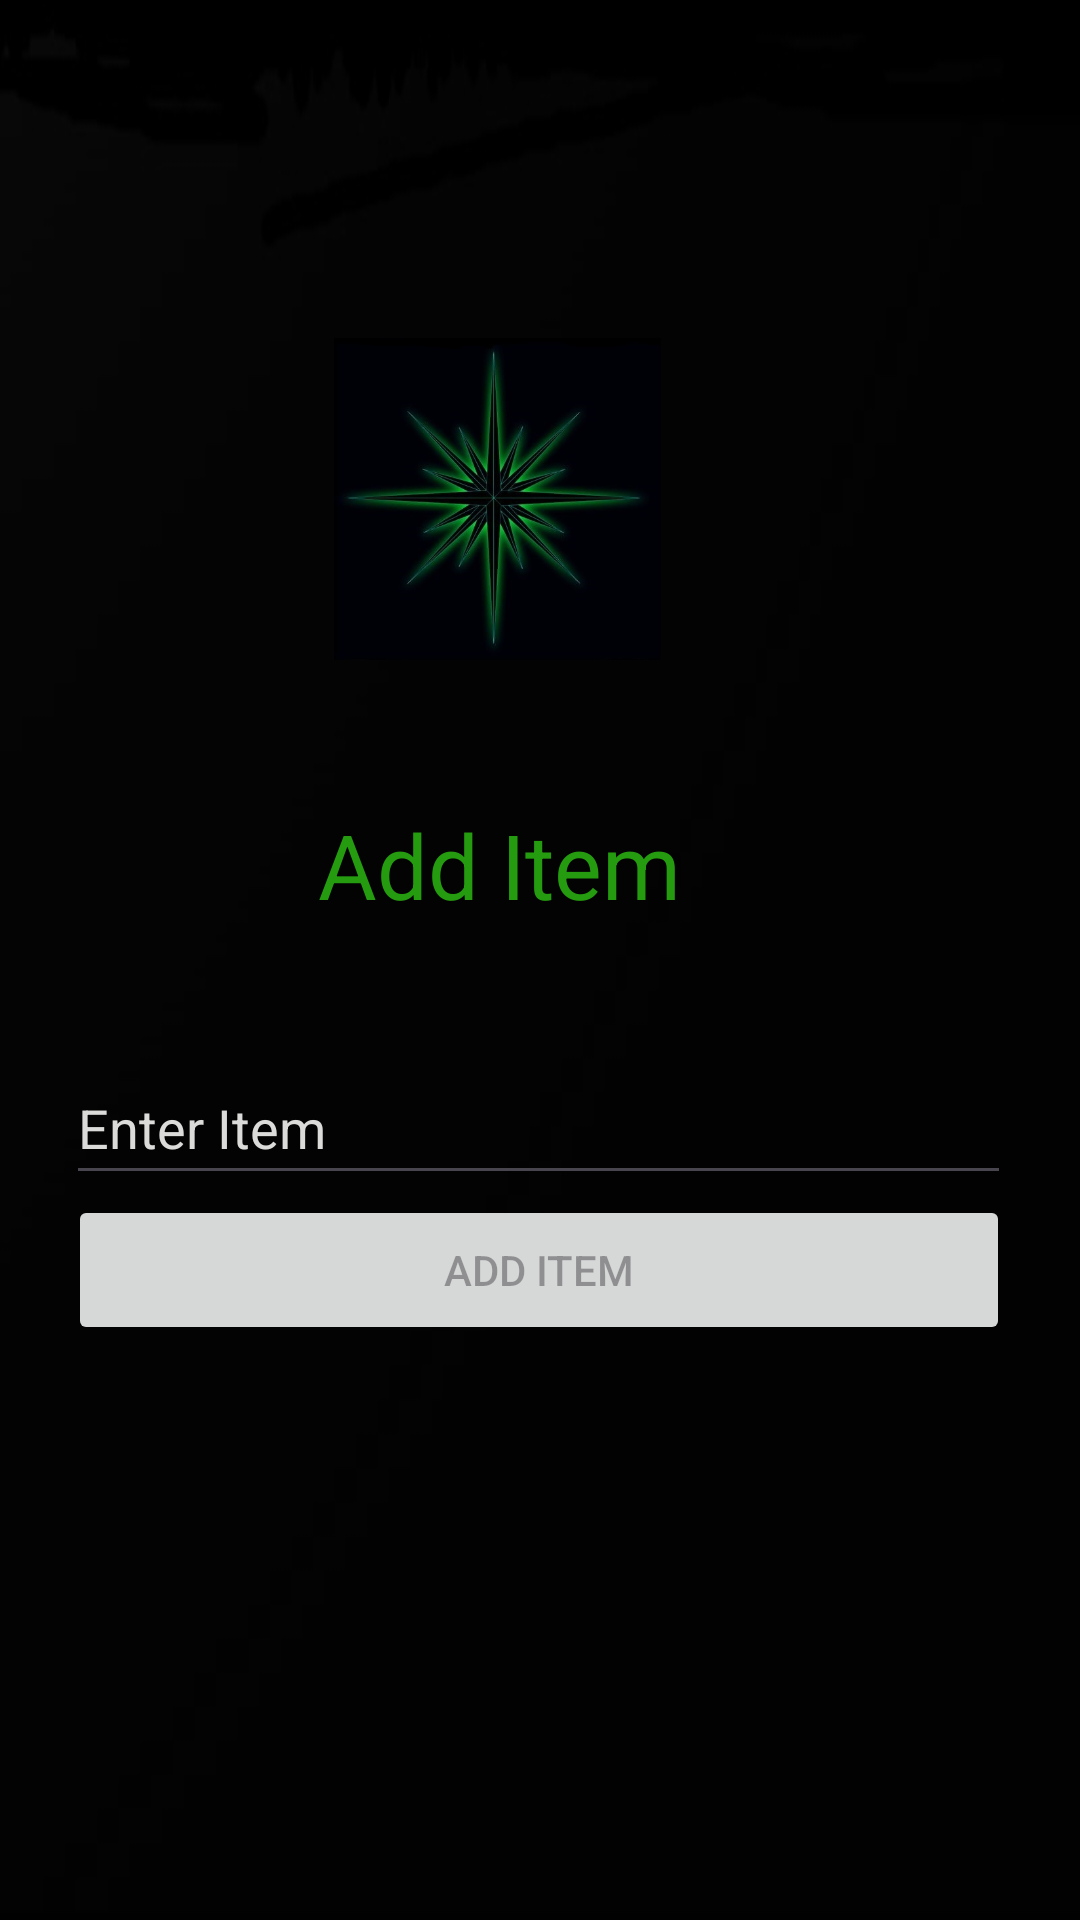

Named icons in this screenshot (1080px x 1920px) and their centers, (x=x, y=y):
star: (x=494, y=498)
